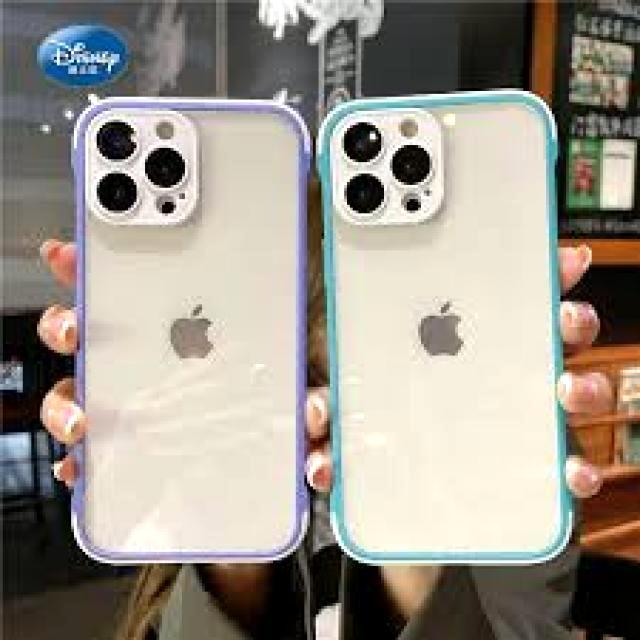lens_back: (336, 166, 393, 225), (89, 165, 142, 220), (332, 116, 386, 167), (390, 138, 441, 191), (94, 115, 144, 169), (142, 141, 192, 192)
phone: (317, 88, 577, 571), (68, 97, 314, 566)
